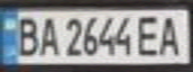2: (60, 14, 84, 57)
4: (115, 12, 136, 57), (97, 12, 118, 56)
6: (81, 14, 100, 57)
A: (154, 11, 187, 57), (36, 14, 60, 57)
B: (9, 14, 42, 57)
E: (133, 12, 163, 57)
